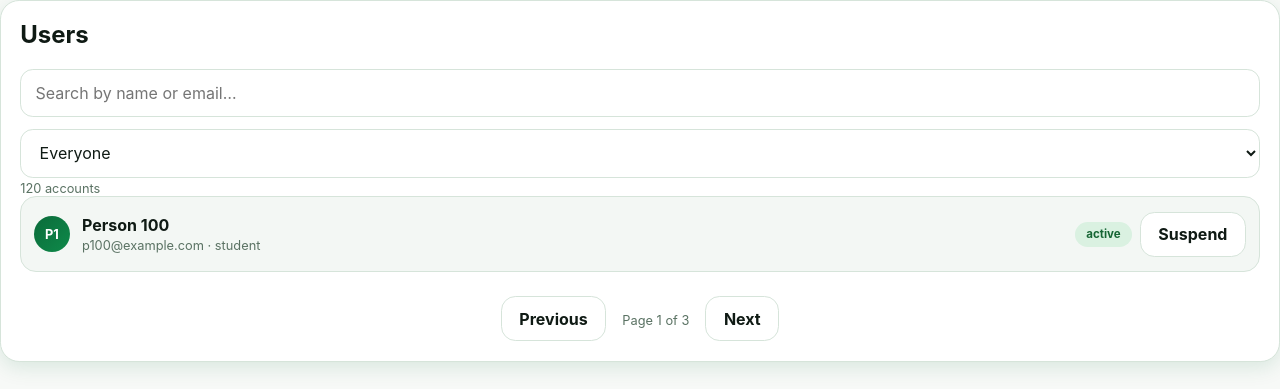
it: admin user list › searches and pages on the server
Expected: the text "120 accounts" is shown, [20,182,100,196]
Expected: the text "Page 1 of 3" is shown, [622,313,689,328]
Click the button "Next": {"x": 742, "y": 319} [705,296,779,341]
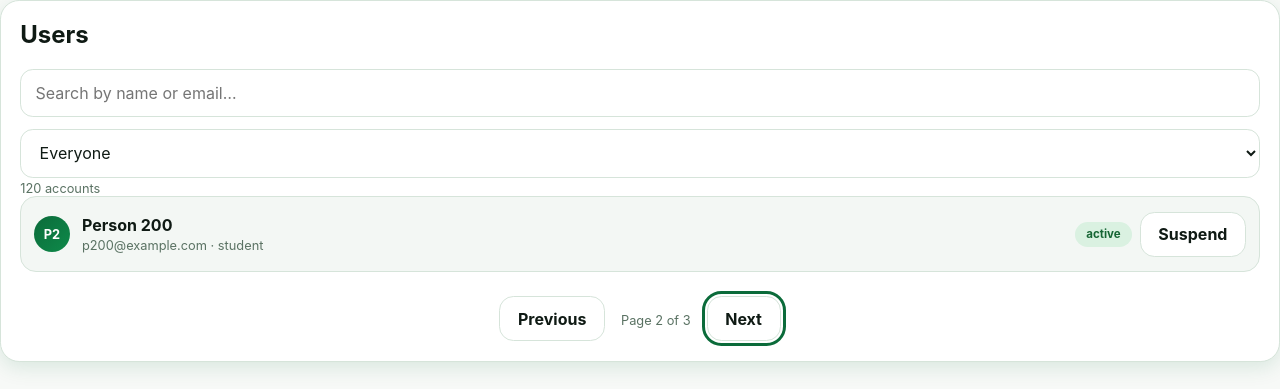
Expected: the text "Person 200" is shown, [82,215,172,235]
In the field named "Search users": {"x": 640, "y": 93} [20,69,1260,117], type "kev"
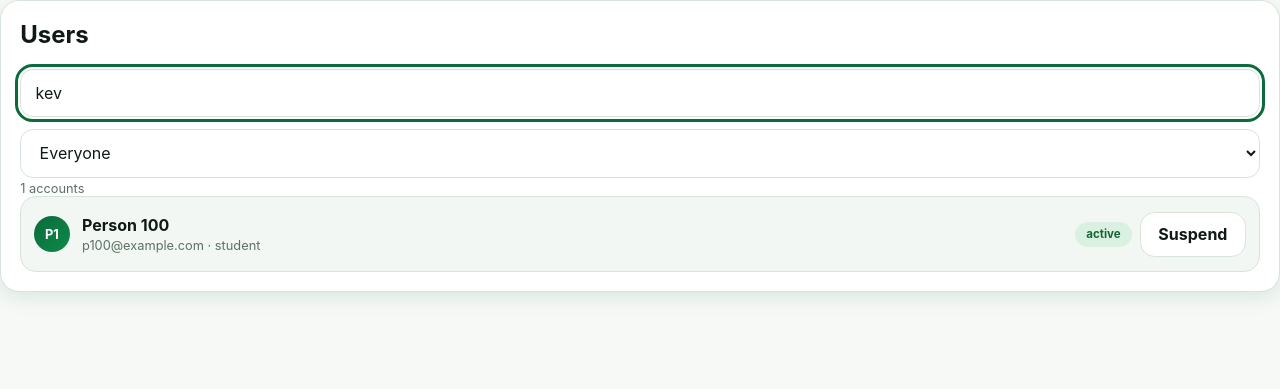
Expected: the text "1 accounts" is shown, [20,182,84,196]
Expected: the text "Page 2 of 3" is gone
